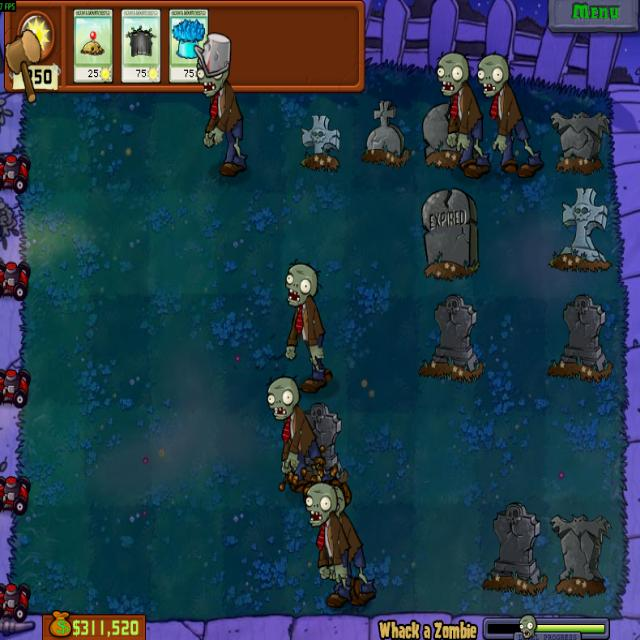damaged_buckethead: (194, 31, 232, 100)
grave: (416, 187, 483, 282), (482, 501, 548, 595), (547, 293, 613, 385), (421, 292, 484, 384), (548, 185, 612, 270), (550, 513, 611, 596), (421, 99, 480, 171), (296, 401, 344, 489), (548, 108, 610, 172), (361, 97, 410, 166), (298, 111, 342, 172)
gravebuster: (120, 9, 162, 83)
zombie: (281, 260, 321, 309), (474, 50, 512, 99), (264, 375, 300, 422), (434, 52, 468, 98), (304, 481, 336, 529), (332, 486, 346, 517)
